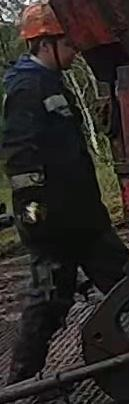gloves: (8, 165, 52, 232)
helmet: (18, 2, 66, 41)
vest: (1, 52, 112, 255)
